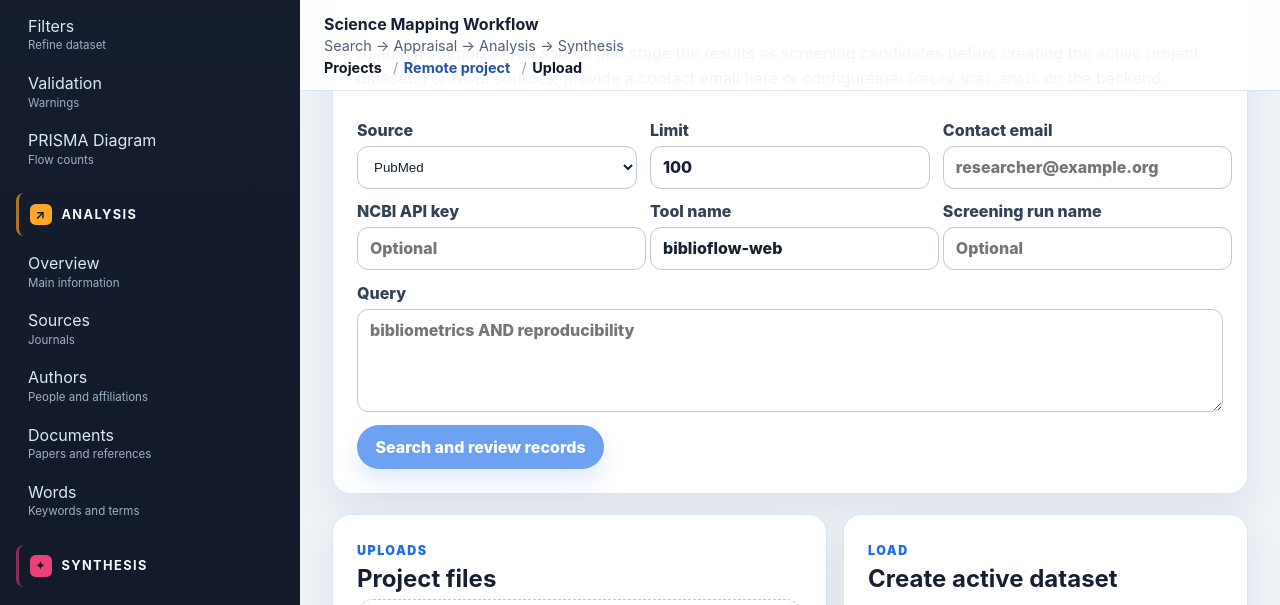
it: remote source import › displays backend remote import errors
(page scrolled)
Type "bibliometrics" into the text box labelled "Query" at (790, 360), box [357, 309, 1223, 412]
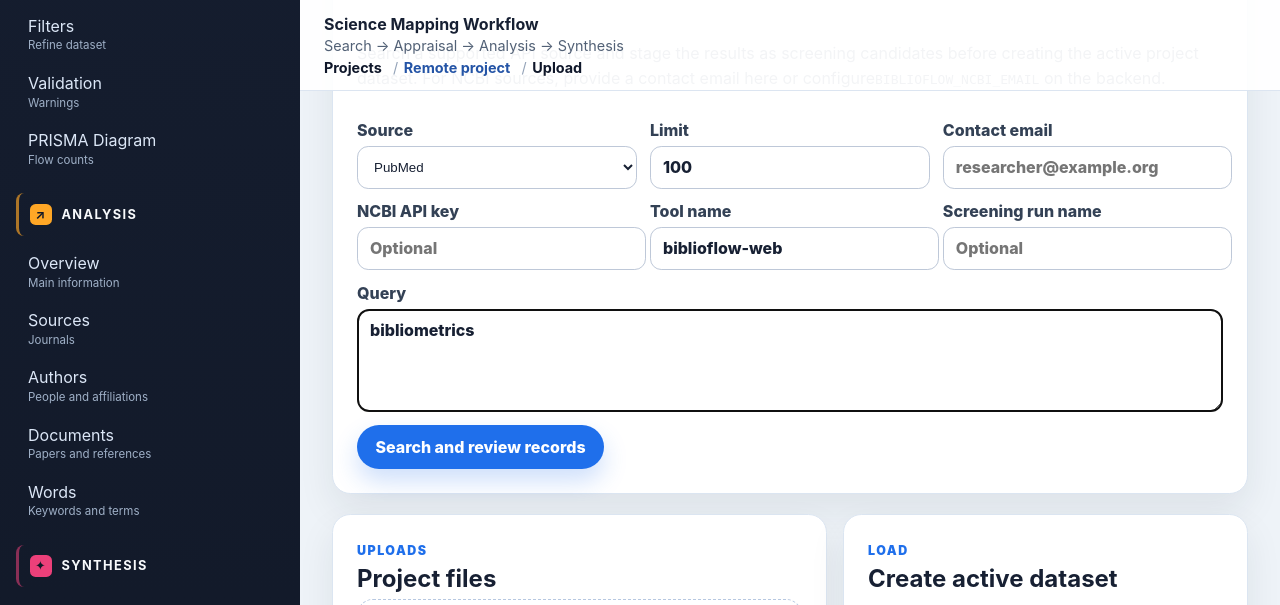
Click the button "Search and review records" at (480, 447), box [357, 425, 604, 469]
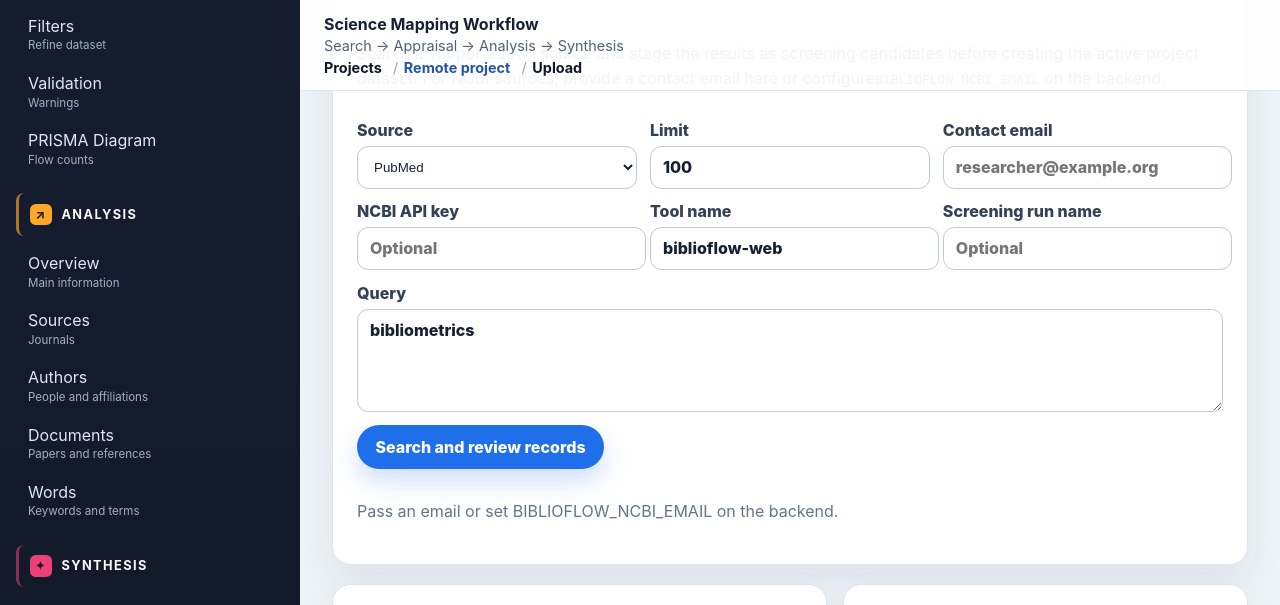
Expected: the message shows "BIBLIOFLOW_NCBI_EMAIL", [357, 501, 838, 521]
